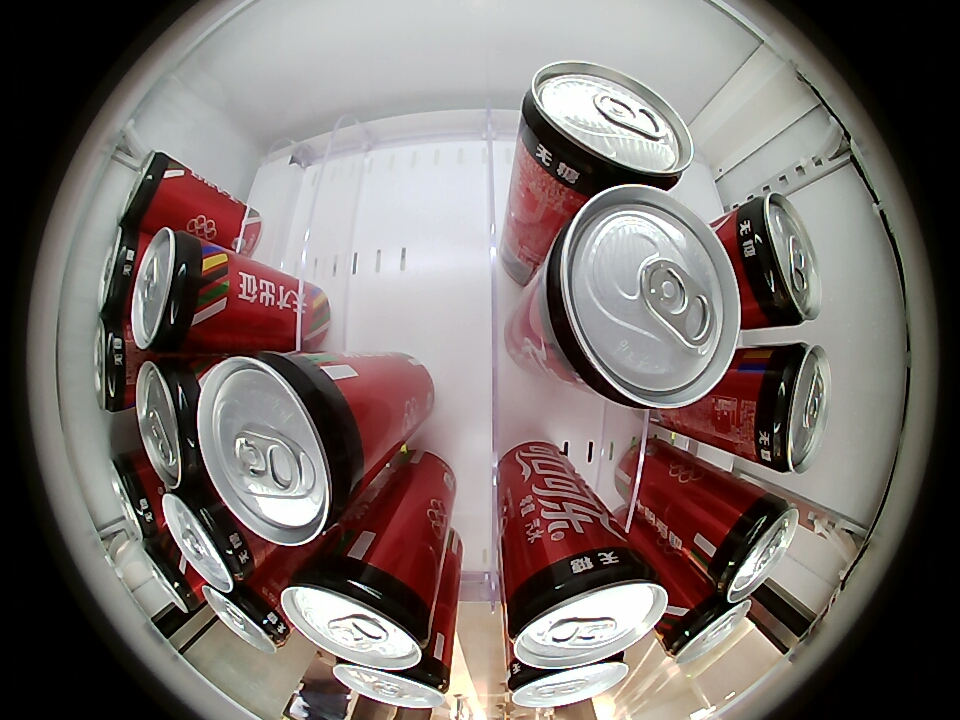lingdukele: (536, 187, 742, 412), (196, 351, 366, 547), (520, 62, 694, 195), (506, 547, 668, 670), (281, 555, 434, 669), (728, 191, 822, 330), (737, 342, 830, 474), (698, 490, 799, 604), (131, 226, 218, 353), (161, 483, 258, 594), (136, 358, 207, 488), (333, 649, 453, 709), (505, 650, 629, 708), (658, 590, 753, 665), (203, 577, 292, 654), (119, 151, 184, 231), (109, 453, 166, 539), (142, 537, 203, 615), (93, 318, 139, 413), (97, 225, 144, 317)
